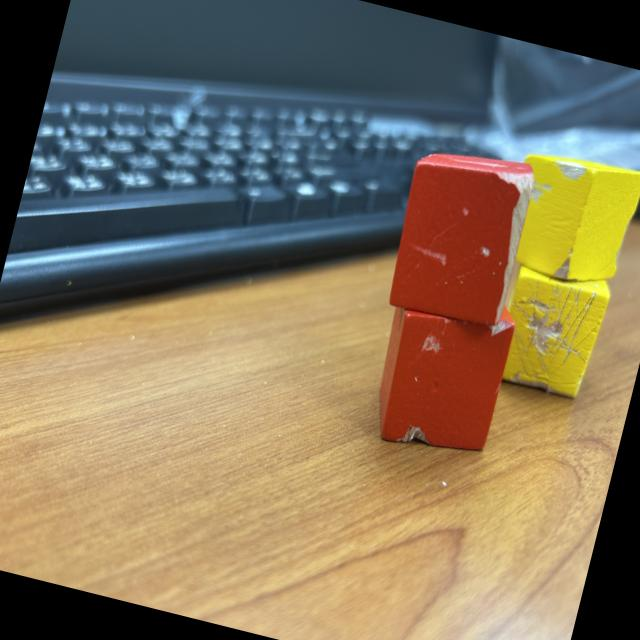broken: (380, 136, 539, 332), (362, 280, 518, 463), (498, 142, 640, 294), (491, 258, 614, 402)
